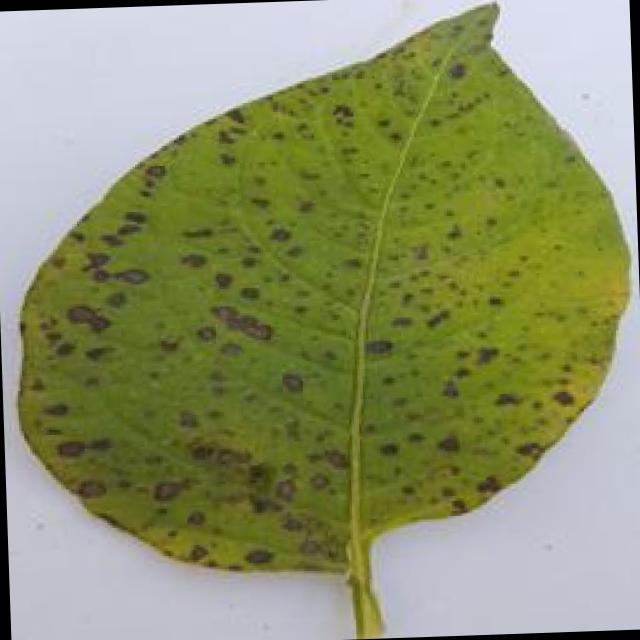Potato_Early_Blight: (1, 0, 640, 591)
